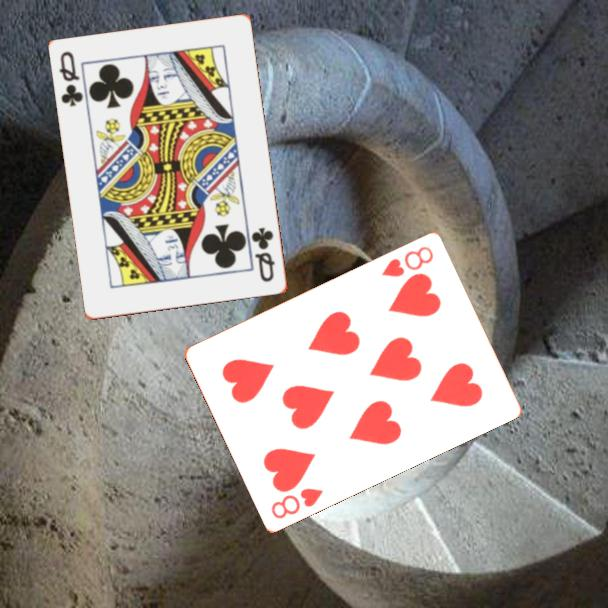c12: (56, 48, 86, 110), (248, 224, 278, 285)
h08: (378, 242, 437, 280), (268, 484, 326, 522)
